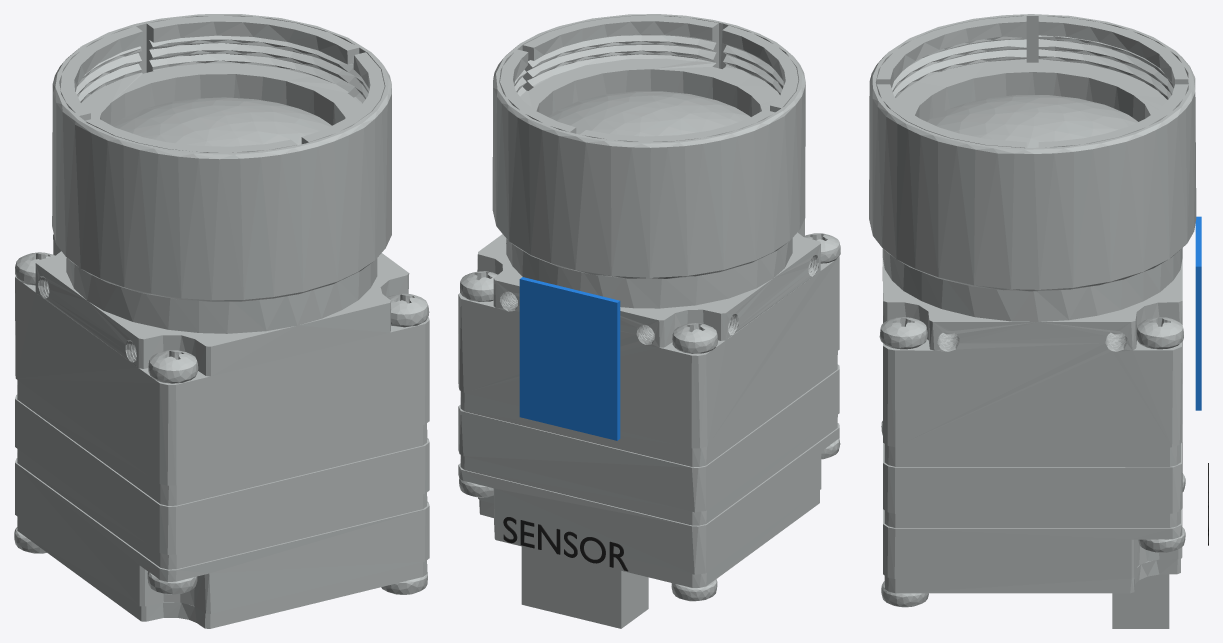
The model's file is ProximitySensor.dae.
The picture shows the model from 3 angles, left to right: view 1: azimuth 30°, elevation 25°; view 2: azimuth 150°, elevation 25°; view 3: azimuth 270°, elevation 25°; orthographic projection. The views are drawn at different scales.
Parts seen in each view (by area): view 1: Proximity Sensor; view 2: Proximity Sensor, proximity_sensor_face, proximity_sensor_text; view 3: Proximity Sensor, proximity_sensor_face.
Boxes of the visible parts, x1,y1,x2,y2 form: Proximity Sensor: (14,14,429,628); Proximity Sensor: (458,14,840,628); proximity_sensor_face: (519,277,620,440); proximity_sensor_text: (503,517,628,571); Proximity Sensor: (869,14,1196,628); proximity_sensor_face: (1195,216,1201,410).
Size of the model in its own units: 0.2181 by 0.2267 by 0.3792.
